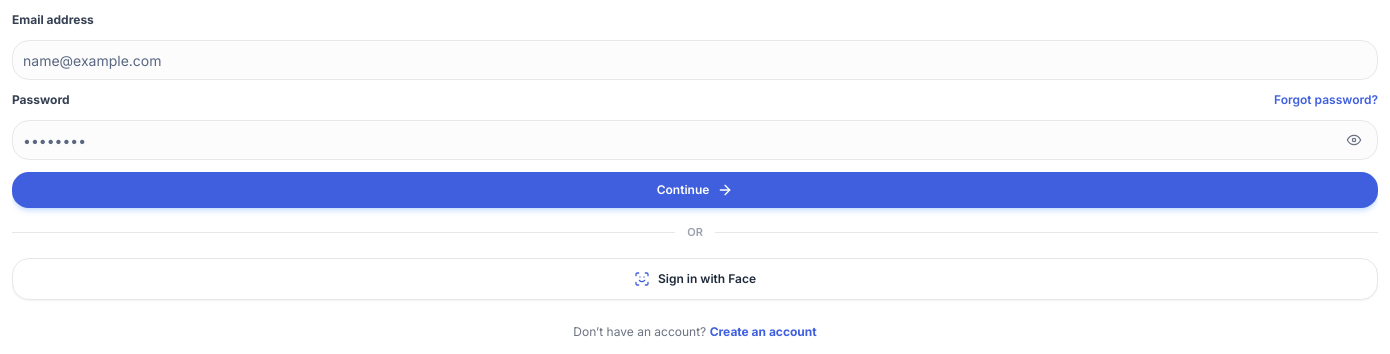
Test: LoginForm face option › shows the face-login button and switches to the face flow
What coordinates should you click on to do the following:
click the button "Sign in with Face"
I would click on:
 (695, 279)
Its box is [12, 258, 1378, 300].
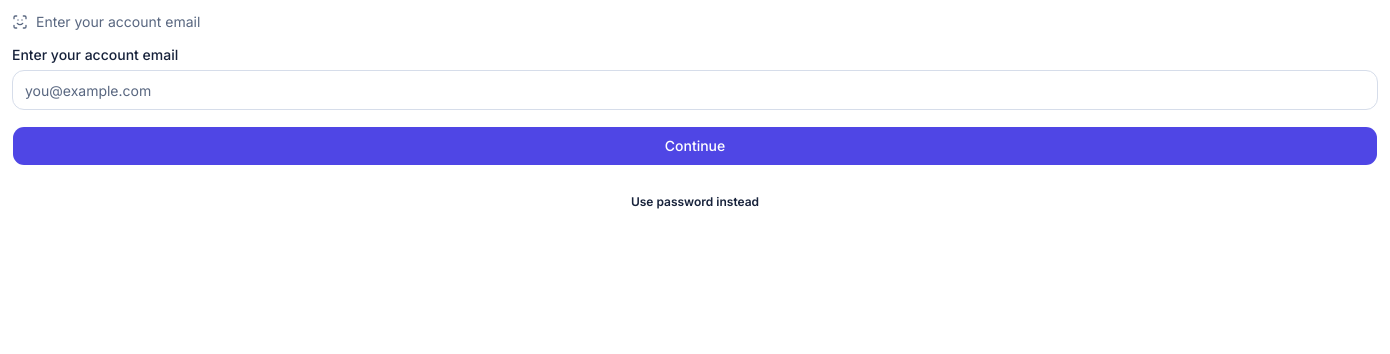
expect the field labelled "Enter your account email" is shown: met, box [12, 70, 1378, 110]
